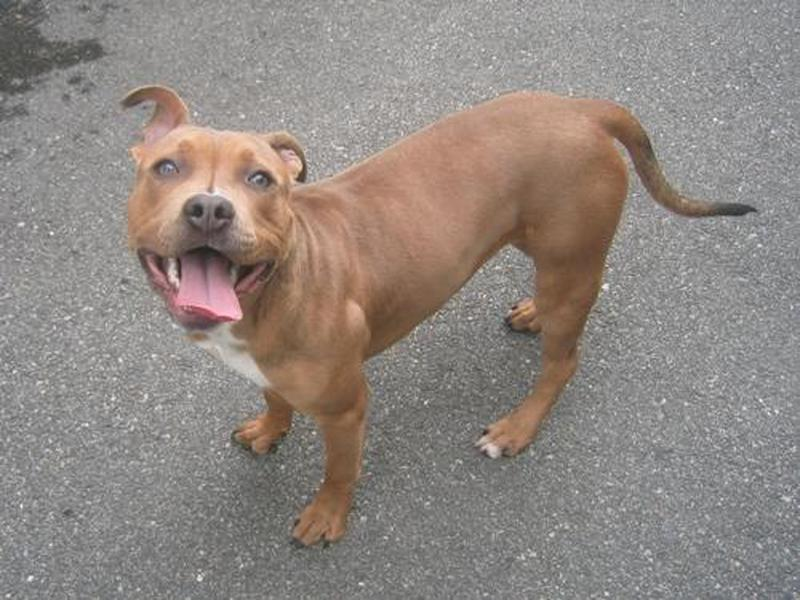dog: (125, 78, 756, 554)
